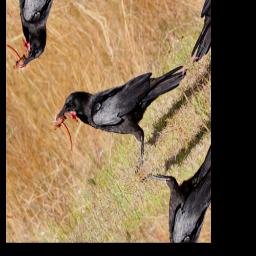Crow: (41, 5, 205, 212)
